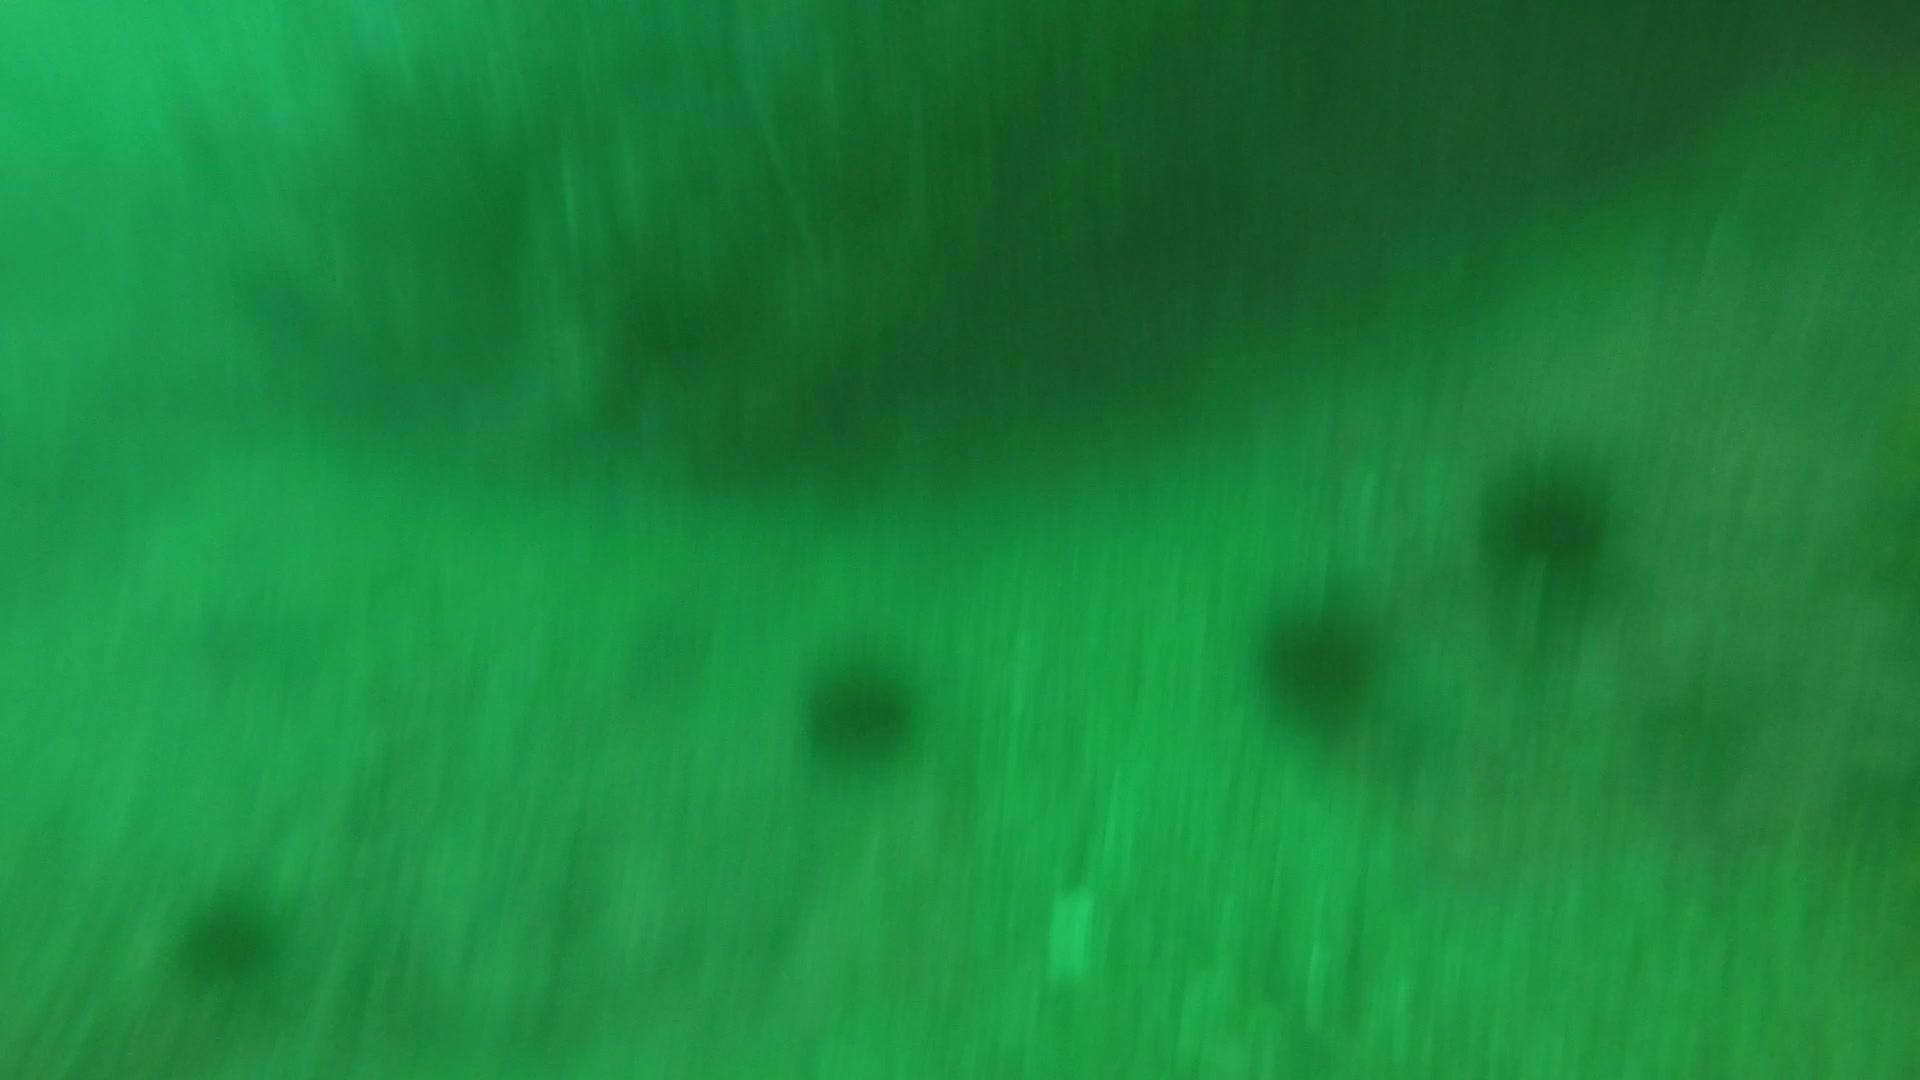echinus: (1249, 589, 1386, 731), (1474, 450, 1618, 583), (793, 644, 924, 767), (167, 882, 289, 986)
